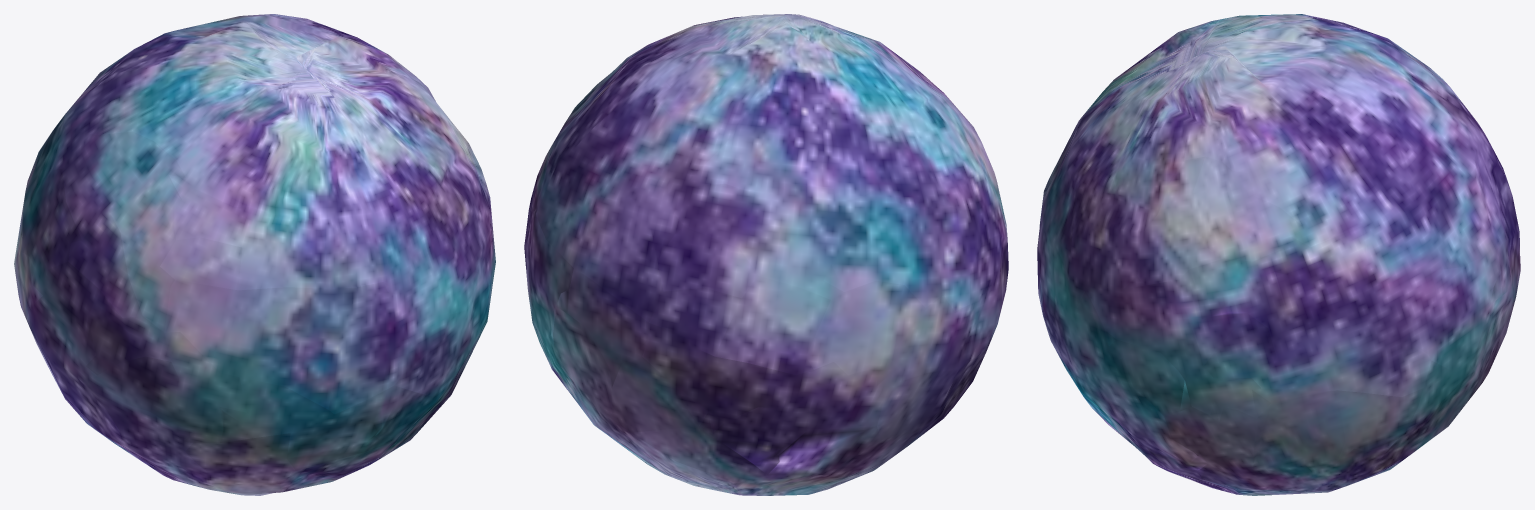
The model's file is planet_9-lod.glb.
3 views of the same model, side by side, from view 1: azimuth 30°, elevation 25°; view 2: azimuth 150°, elevation 25°; view 3: azimuth 270°, elevation 25° (orthographic).
Visible parts, largest first — view 1: Mesh_0.001; view 2: Mesh_0.001; view 3: Mesh_0.001.
Boxes of the visible parts, bbox=[...] form: Mesh_0.001: bbox=[14, 14, 495, 495]; Mesh_0.001: bbox=[524, 14, 1008, 495]; Mesh_0.001: bbox=[1037, 14, 1520, 495].
Bounding box in the file's own units: 1.9 × 1.9 × 1.9.
Materials: 1 (1 with a texture image).
